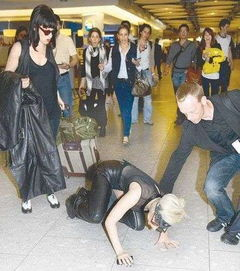10+: (1, 1, 239, 266)
down: (62, 151, 191, 268)
